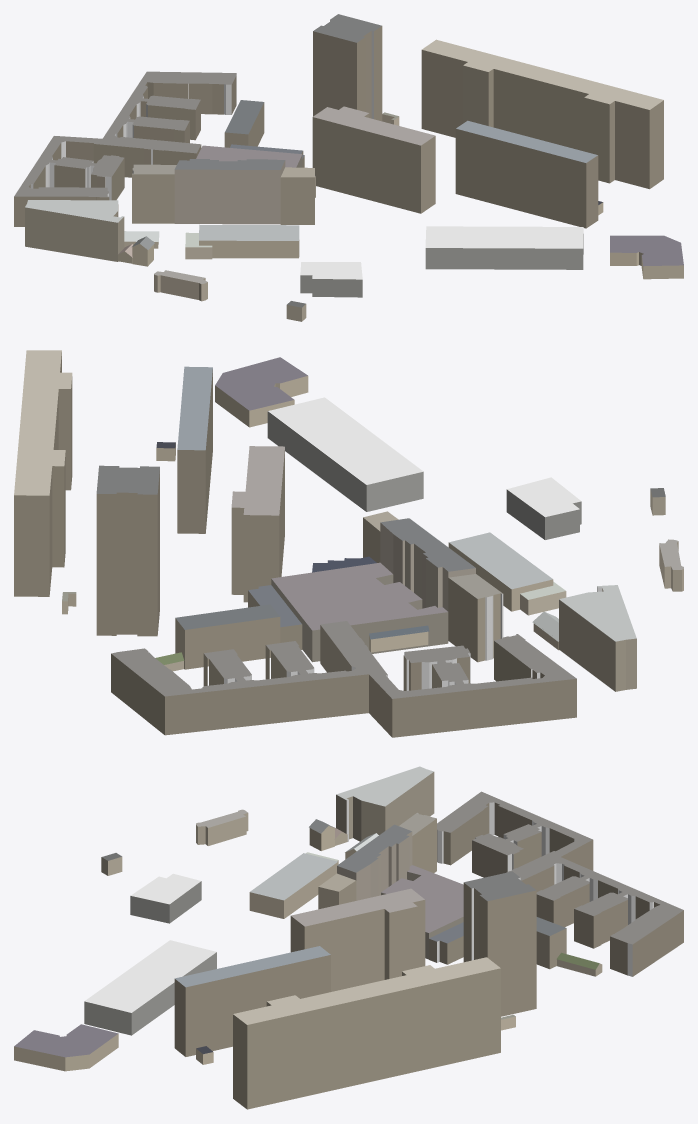
3 renders of one model, top to bottom at view 1: azimuth 30°, elevation 25°; view 2: azimuth 150°, elevation 25°; view 3: azimuth 270°, elevation 25°, orthographic. The views are drawn at different scales.
Parts seen in each view (by area): view 1: tuile; view 2: tuile; view 3: tuile.
Part boxes in pixels (x1,y1,x2,y2): tuile: [14, 14, 683, 321]; tuile: [14, 350, 683, 737]; tuile: [14, 766, 683, 1109].
Bounding box in the file's own units: 292 × 56.16 × 284.
